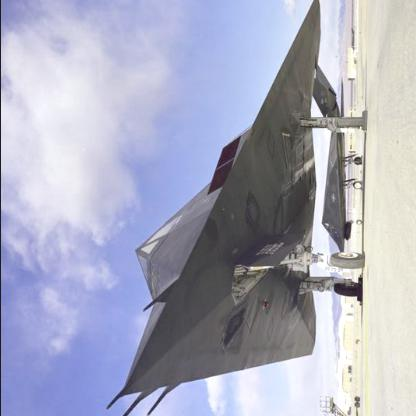E7: (103, 1, 363, 415), (312, 64, 360, 254), (348, 28, 354, 52)
